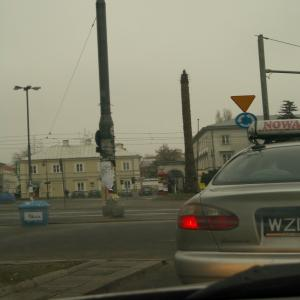Vehicle-registration-plate: (263, 215, 300, 238)
